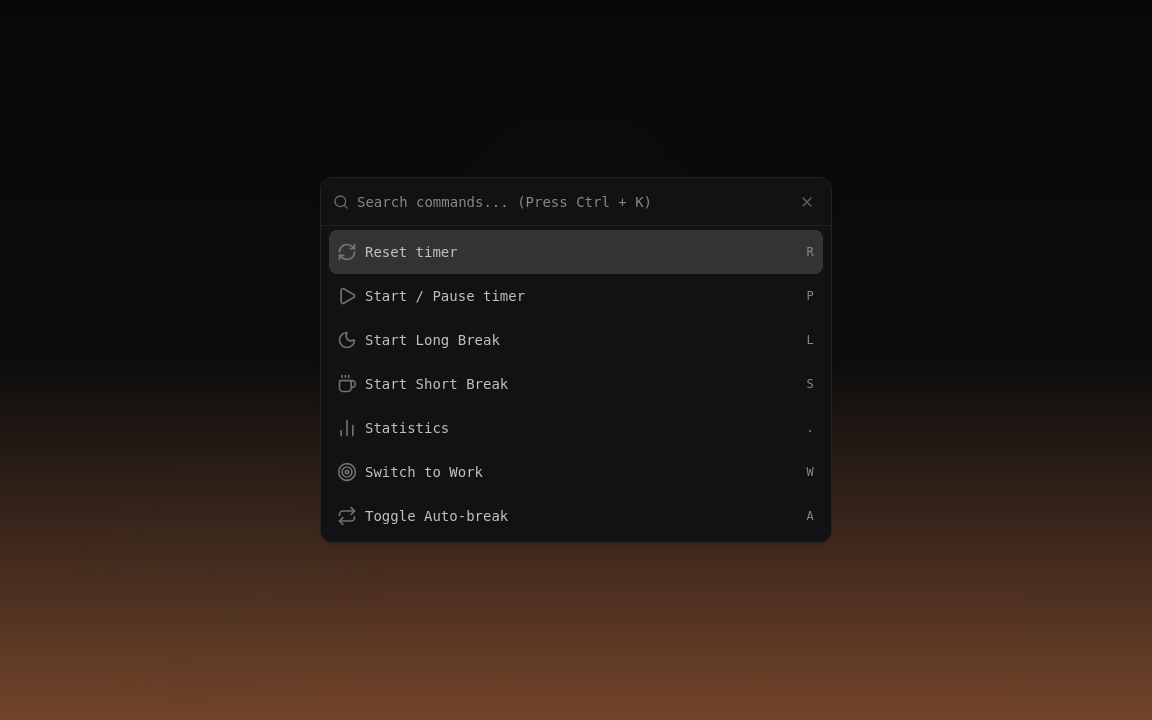
Test case: CommandPalette › filters commands based on search input
This screenshot has width=1152, height=720.
In the dropdown with placeholder "Search commands... (Press Ctrl + K)": x=588, y=202 [357, 178, 819, 226], type "break"
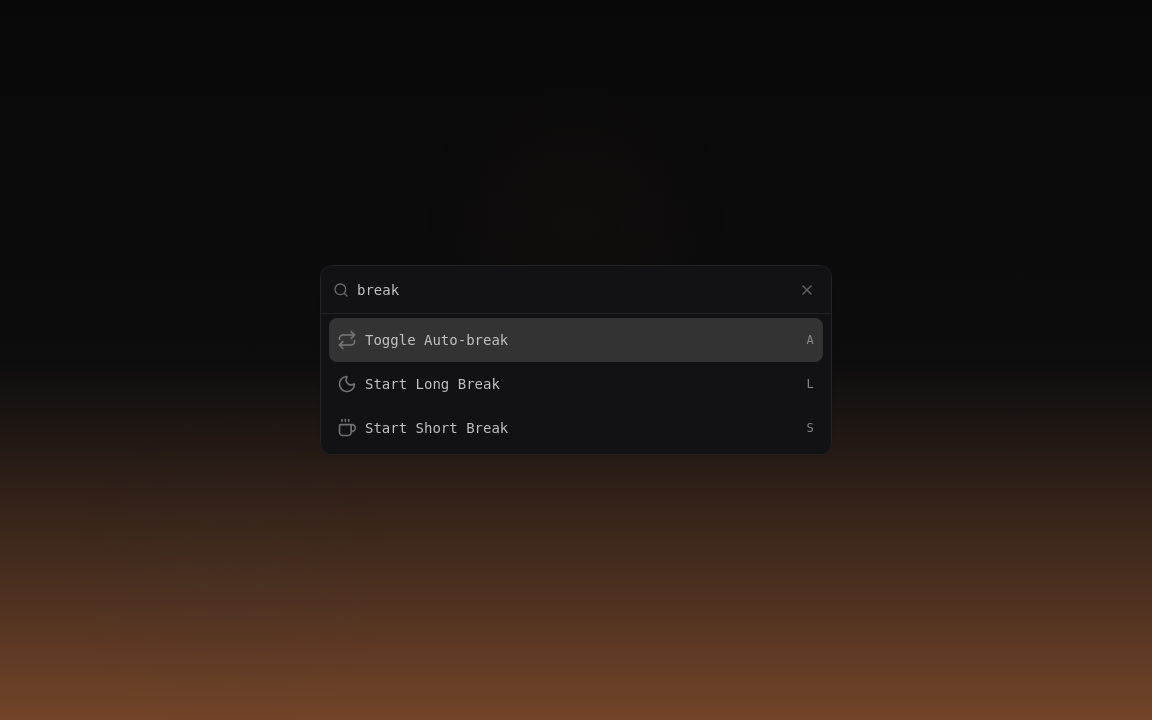
expect the text "Start Short Break" is shown: met, box [365, 418, 508, 438]
expect the option "Reset timer" is gone: met
